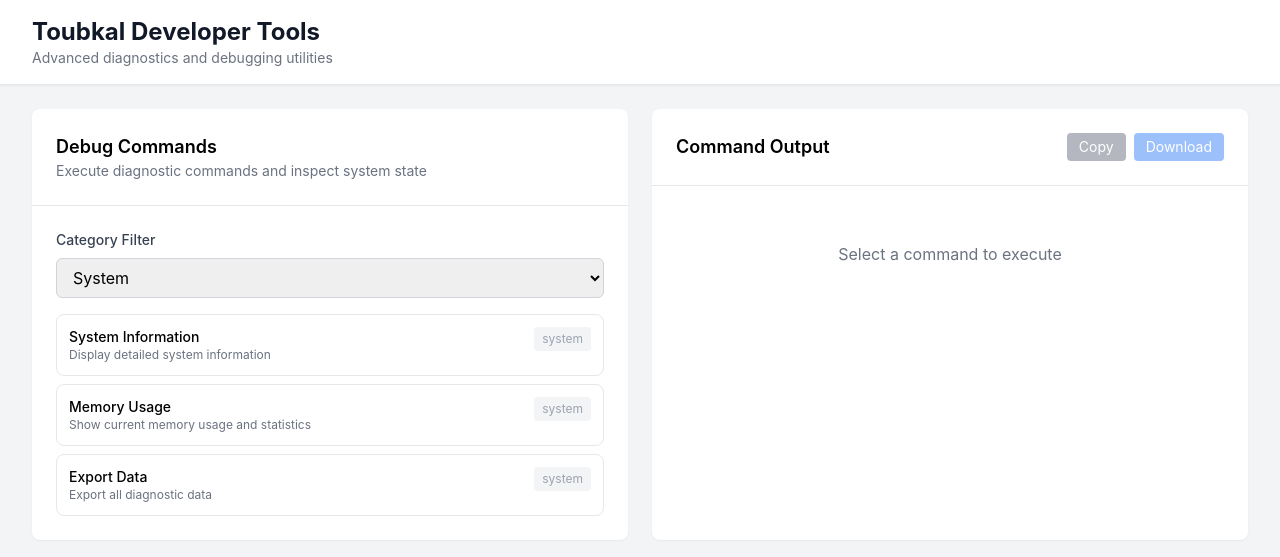
it: DeveloperTools › should execute export data command
The width and height of the screenshot is (1280, 557).
Click the heading "Export Data" at point(108, 476), box top-left (69, 468), bottom-right (147, 485)
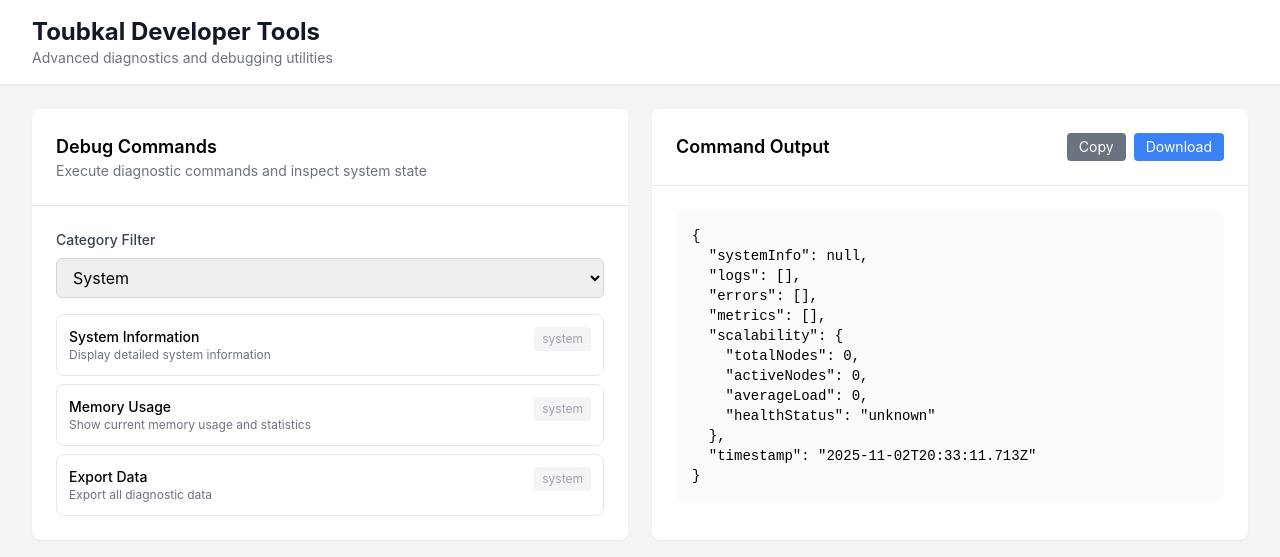
Expected: the text "systemInfo" is shown, top-left (692, 228), bottom-right (1036, 484)
